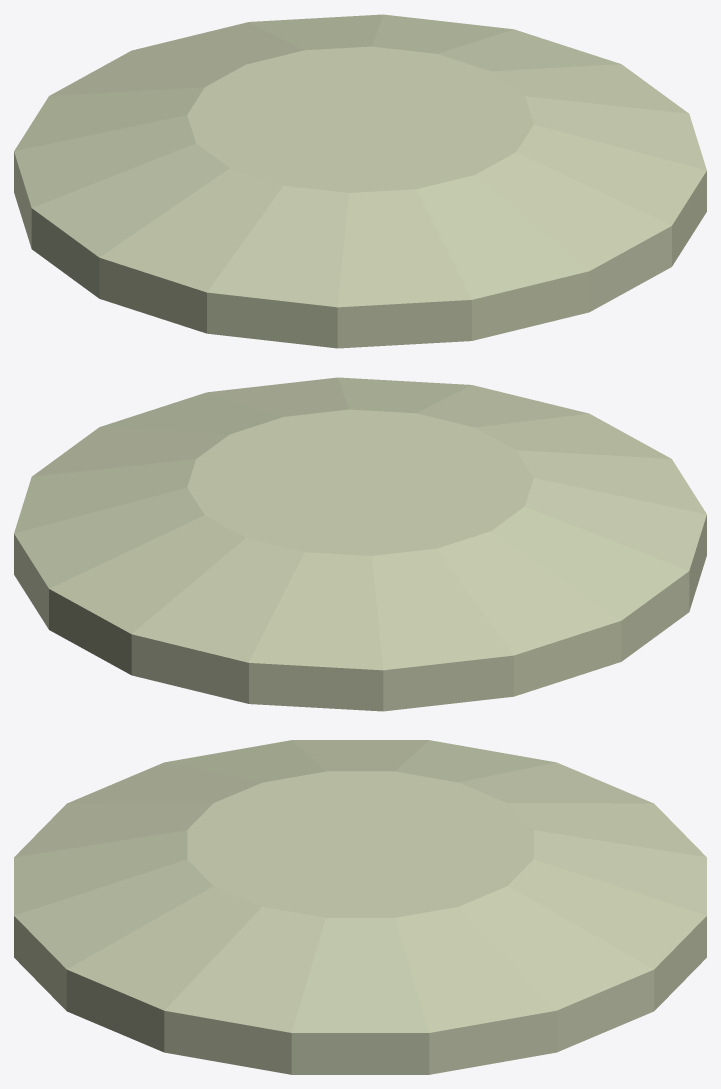
File: vega_adapter_s1p5_s0p5_1_collider.obj
The picture shows the model from 3 angles, top to bottom: view 1: azimuth 30°, elevation 25°; view 2: azimuth 150°, elevation 25°; view 3: azimuth 270°, elevation 25°; orthographic projection.
Visible parts, largest first — view 1: vega_adapter_s1p5_s0p5_1_collider; view 2: vega_adapter_s1p5_s0p5_1_collider; view 3: vega_adapter_s1p5_s0p5_1_collider.
Part boxes in pixels (x1,y1,x2,y2): vega_adapter_s1p5_s0p5_1_collider: (14, 14, 706, 348); vega_adapter_s1p5_s0p5_1_collider: (14, 377, 706, 711); vega_adapter_s1p5_s0p5_1_collider: (14, 740, 706, 1074).
Bounding box in the file's own units: 1.88 × 0.25 × 1.88.
